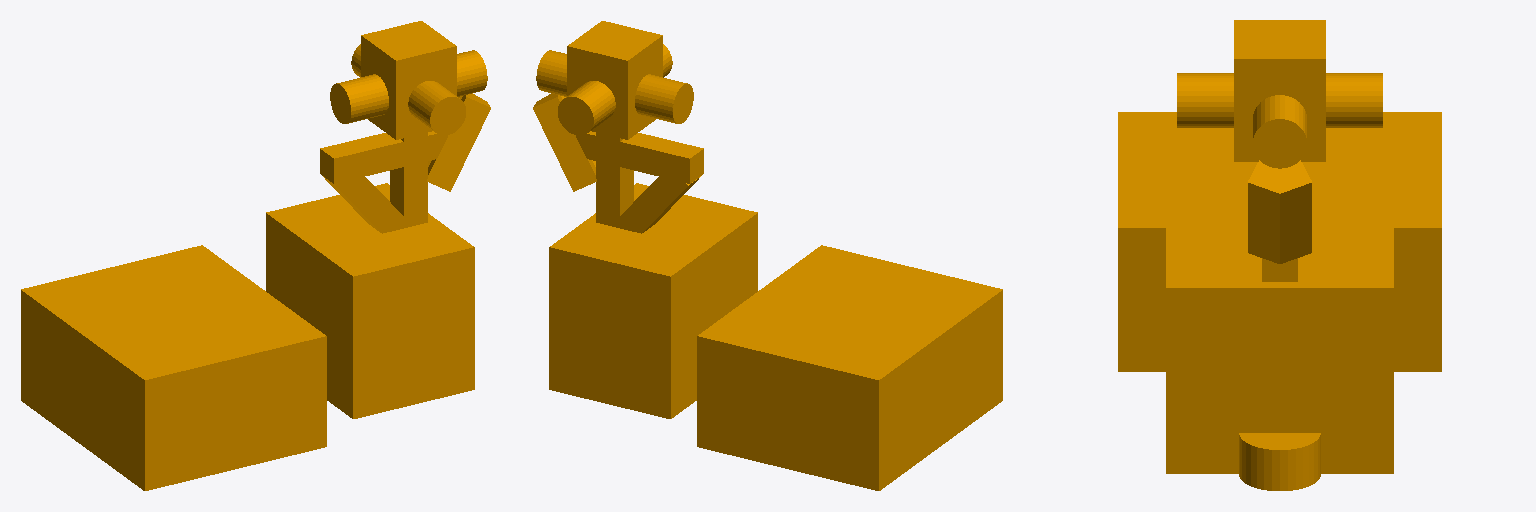
URDF robot description (marble_husky_sensor_config_5):
<?xml version='1.0' encoding='utf-8'?>
<robot name='marble_husky_sensor_config_5'>
  <link name='base_link'>
    <inertial>
      <origin xyz='-0.000543 -0.084945 0.062329' rpy='0 -0 0'/>
      <mass value='46.064'/>
      <inertia ixx='0.615397' ixy='-0.0240585' ixz='-0.120749' iyy='1.75388' iyz='-0.0028322' izz='2.03641'/>
    </inertial>
    <collision name='base_link_collision'>
      <origin xyz='0 0 0.12' rpy='0 -0 0'/>
      <geometry>
        <box size='0.9874 0.5709 0.05'/>
      </geometry>
    </collision>
    <collision name='base_link_collision_bottom'>
      <origin xyz='0 0 0.046' rpy='0 -0 0'/>
      <geometry>
        <box size='0.8 0.5709 0.095'/>
      </geometry>
    </collision>
    <collision name='base_link_collision_1'>
      <origin xyz='0 0 0.185625' rpy='0 -0 0'/>
      <geometry>
        <box size='0.78992 0.5709 0.12375'/>
      </geometry>
    </collision>
    <collision name='base_link_fixed_joint_lump__camera/camera_link_collision_2'>
      <origin xyz='0.478 0 0.285' rpy='0 -0 0'/>
      <geometry>
        <box size='0.0078 0.13 0.0192'/>
      </geometry>
    </collision>
    <collision name='base_link_fixed_joint_lump__camera/camera_link_collision_3'>
      <origin xyz='0.473 0 0.26' rpy='0 0.5236 0'/>
      <geometry>
        <box size='0.0078 0.13 0.0192'/>
      </geometry>
    </collision>
    <collision name='base_link_fixed_joint_lump__velodyne_base_link_collision_6'>
      <origin xyz='0.424 0 0.327' rpy='0 -0 0'/>
      <geometry>
        <cylinder radius='0.0516' length='0.0717'/>
      </geometry>
    </collision>
    <collision name='base_link_fixed_joint_lump__sensor_tower_8'>
      <origin xyz='0.374 0 0.215' rpy='0 -0 0'/>
      <geometry>
        <box size='0.2 0.25 0.225'/>
      </geometry>
    </collision>
    <collision name='base_link_fixed_joint_lump__computer_block_9'>
      <origin xyz='0.05 0 0.185' rpy='0 -0 0'/>
      <geometry>
        <box size='0.3 0.355 0.175'/>
      </geometry>
    </collision>
    <collision name='tof_left_camera_mount_collision'>
      <origin xyz='0.5105 0.01 0.439' rpy='-1.34452 0.47634 0.465309'/>
      <geometry>
        <box size='0.04 0.135 0.0385'/>
      </geometry>
    </collision>
    <collision name='tof_right_camera_mount_collision'>
      <origin xyz='0.5105 -0.01 0.439' rpy='-1.79707 0.47634 -0.465309'/>
      <geometry>
        <box size='0.04 0.135 0.0385'/>
      </geometry>
    </collision>
    <collision name='sensor_head_collision'>
      <origin xyz='0.4379 0 0.54818' rpy='0 -0 0'/>
      <geometry>
        <box size='0.1 0.1 0.125'/>
      </geometry>
    </collision>
    <collision name='sensor_tower_support_collision'>
      <origin xyz='0.4379 0 0.39918' rpy='0 -0 0'/>
      <geometry>
        <box size='0.04 0.04 0.25'/>
      </geometry>
    </collision>
    <collision name='vertical_lidar_support_collision'>
      <origin xyz='0.4029 0 0.44418' rpy='0 -0 0'/>
      <geometry>
        <box size='0.2 0.04 0.04'/>
      </geometry>
    </collision>
    <collision name='diagonal_lidar_support_collision'>
      <origin xyz='0.3779 0 0.36418' rpy='0 0.8854 0'/>
      <geometry>
        <box size='0.18 0.04 0.04'/>
      </geometry>
    </collision>
    <collision name='camera_front_collision'>
      <origin xyz='0.5179 0 0.53718' rpy='3.14159 1.57069 3.14159'/>
      <geometry>
        <cylinder radius='0.03' length='0.065'/>
      </geometry>
    </collision>
    <collision name='camera_back_collision'>
      <origin xyz='0.3579 0 0.53718' rpy='3.14159 1.57069 3.14159'/>
      <geometry>
        <cylinder radius='0.03' length='0.065'/>
      </geometry>
    </collision>
    <collision name='camera_left_collision'>
      <origin xyz='0.4379 0.08 0.53718' rpy='1.5709 -0 0'/>
      <geometry>
        <cylinder radius='0.03' length='0.065'/>
      </geometry>
    </collision>
    <collision name='camera_right_collision'>
      <origin xyz='0.4379 -0.08 0.53718' rpy='1.5709 -0 0'/>
      <geometry>
        <cylinder radius='0.03' length='0.065'/>
      </geometry>
    </collision>
    <visual name='base_link_visual'>
      <origin xyz='0 0 0' rpy='0 -0 0'/>
      <geometry>
        <mesh filename='meshes/base_link.dae' scale='1 1 1'/>
      </geometry>
    </visual>
    <visual name='base_link_fixed_joint_lump__front_bumper_link_visual_3'>
      <origin xyz='0.48 0 0.091' rpy='0 -0 0'/>
      <geometry>
        <mesh filename='meshes/bumper.dae' scale='1 1 1'/>
      </geometry>
    </visual>
    <visual name='base_link_fixed_joint_lump__rear_bumper_link_visual_4'>
      <origin xyz='-0.48 0 0.091' rpy='0 -0 3.14159'/>
      <geometry>
        <mesh filename='meshes/bumper.dae' scale='1 1 1'/>
      </geometry>
    </visual>
    <visual name='base_link_fixed_joint_lump__top_chassis_link_visual_5'>
      <origin xyz='0 0 0' rpy='0 -0 0'/>
      <geometry>
        <mesh filename='meshes/top_chassis.dae' scale='1 1 1'/>
      </geometry>
    </visual>
    <visual name='base_link_fixed_joint_lump__user_rail_link_visual_13'>
      <origin xyz='0.272 0 0.245' rpy='0 -0 0'/>
      <geometry>
        <mesh filename='meshes/user_rail.dae' scale='1 1 1'/>
      </geometry>
    </visual>
    <visual name='base_link_fixed_joint_lump__planar_lidar_link_visual_14'>
      <origin xyz='0.474 0 0.127' rpy='0 -0 0'/>
      <geometry>
        <cylinder radius='0.045' length='0.05'/>
      </geometry>
    </visual>
    <visual name='base_link_fixed_joint_lump__sensor_tower_16'>
      <origin xyz='0.374 0 0.215' rpy='0 -0 0'/>
      <geometry>
        <box size='0.2 0.25 0.225'/>
      </geometry>
    </visual>
    <visual name='base_link_fixed_joint_lump__computer_block_17'>
      <origin xyz='0.05 0 0.185' rpy='0 -0 0'/>
      <geometry>
        <box size='0.3 0.355 0.175'/>
      </geometry>
    </visual>
    <visual name='tof_left_camera_visual'>
      <origin xyz='0.527 0.015 0.429' rpy='-1.34452 0.47634 0.465309'/>
      <geometry>
        <mesh filename='meshes/realsense.dae' scale='1 1 1'/>
      </geometry>
    </visual>
    <visual name='tof_left_camera_mount_visual'>
      <origin xyz='0.5105 0.01 0.439' rpy='-1.34452 0.47634 0.465309'/>
      <geometry>
        <box size='0.04 0.135 0.0385'/>
      </geometry>
    </visual>
    <visual name='tof_right_camera_visual'>
      <origin xyz='0.527 -0.015 0.429' rpy='-1.79707 0.47634 -0.465309'/>
      <geometry>
        <mesh filename='meshes/realsense.dae' scale='1 1 1'/>
      </geometry>
    </visual>
    <visual name='tof_right_camera_mount_visual'>
      <origin xyz='0.5105 -0.01 0.439' rpy='-1.79707 0.47634 -0.465309'/>
      <geometry>
        <box size='0.04 0.135 0.0385'/>
      </geometry>
    </visual>
    <visual name='sensor_head_visual'>
      <origin xyz='0.4379 0 0.54818' rpy='0 -0 0'/>
      <geometry>
        <box size='0.1 0.1 0.125'/>
      </geometry>
    </visual>
    <visual name='sensor_tower_support_visual'>
      <origin xyz='0.4379 0 0.39918' rpy='0 -0 0'/>
      <geometry>
        <box size='0.04 0.04 0.25'/>
      </geometry>
    </visual>
    <visual name='vertical_lidar_support_visual'>
      <origin xyz='0.4029 0 0.44418' rpy='0 -0 0'/>
      <geometry>
        <box size='0.2 0.04 0.04'/>
      </geometry>
    </visual>
    <visual name='diagonal_lidar_support_visual'>
      <origin xyz='0.3779 0 0.36418' rpy='0 0.8854 0'/>
      <geometry>
        <box size='0.18 0.04 0.04'/>
      </geometry>
    </visual>
    <visual name='base_link_fixed_joint_lump__velodyne_base_link_visual_10'>
      <origin xyz='0.4379 0 0.61018' rpy='0 -0 0'/>
      <geometry>
        <mesh filename='meshes/VLP16_base_1.dae' scale='1 1 1'/>
      </geometry>
    </visual>
    <visual name='base_link_fixed_joint_lump__velodyne_base_link_visual_11'>
      <origin xyz='0.4379 0 0.61018' rpy='0 -0 0'/>
      <geometry>
        <mesh filename='meshes/VLP16_base_2.dae' scale='1 1 1'/>
      </geometry>
    </visual>
    <visual name='base_link_fixed_joint_lump__velodyne_visual_12'>
      <origin xyz='0.4379 0 0.61018' rpy='0 -0 0'/>
      <geometry>
        <mesh filename='meshes/VLP16_scan.dae' scale='1 1 1'/>
      </geometry>
    </visual>
    <visual name='base_link_fixed_joint_lump__velodyne_base_link_visual_13'>
      <origin xyz='0.31037 0 0.44818' rpy='3.14159 -1.57079 3.14159'/>
      <geometry>
        <mesh filename='meshes/VLP16_base_1.dae' scale='1 1 1'/>
      </geometry>
    </visual>
    <visual name='base_link_fixed_joint_lump__velodyne_base_link_visual_14'>
      <origin xyz='0.31037 0 0.44818' rpy='3.14159 -1.57079 3.14159'/>
      <geometry>
        <mesh filename='meshes/VLP16_base_2.dae' scale='1 1 1'/>
      </geometry>
    </visual>
    <visual name='base_link_fixed_joint_lump__velodyne_visual_15'>
      <origin xyz='0.31037 0 0.44818' rpy='3.14159 -1.57079 3.14159'/>
      <geometry>
        <mesh filename='meshes/VLP16_scan.dae' scale='1 1 1'/>
      </geometry>
    </visual>
    <visual name='camera_front_visual'>
      <origin xyz='0.5179 0 0.53718' rpy='3.14159 1.57069 3.14159'/>
      <geometry>
        <cylinder radius='0.03' length='0.065'/>
      </geometry>
    </visual>
    <visual name='camera_back_visual'>
      <origin xyz='0.3579 0 0.53718' rpy='3.14159 1.57069 3.14159'/>
      <geometry>
        <cylinder radius='0.03' length='0.065'/>
      </geometry>
    </visual>
    <visual name='camera_left_visual'>
      <origin xyz='0.4379 0.08 0.53718' rpy='1.5709 -0 0'/>
      <geometry>
        <cylinder radius='0.03' length='0.065'/>
      </geometry>
    </visual>
    <visual name='camera_right_visual'>
      <origin xyz='0.4379 -0.08 0.53718' rpy='1.5709 -0 0'/>
      <geometry>
        <cylinder radius='0.03' length='0.065'/>
      </geometry>
    </visual>
  </link>
  <sensor name='planar_laser' update_rate='20'>
    <parent link='base_link'/>
    <origin xyz='0.485 0 0.166' rpy='0 -0 0'/>
  </sensor>
  <sensor name='tof_left' update_rate='10'>
    <parent link='base_link'/>
    <origin xyz='0.527 0.015 0.429' rpy='-1.34452 0.47634 0.465309'/>
    <camera>
      <image width='224' height='171' format='R8G8B8' hfov='1.0821' near='0.1' far='4' />
    </camera>
  </sensor>
  <sensor name='tof_right' update_rate='10'>
    <parent link='base_link'/>
    <origin xyz='0.527 -0.015 0.429' rpy='-1.79707 0.47634 -0.465309'/>
    <camera>
      <image width='224' height='171' format='R8G8B8' hfov='1.0821' near='0.1' far='4' />
    </camera>
  </sensor>
  <sensor name='imu_sensor' update_rate='200'>
    <parent link='base_link'/>
    <origin xyz='0 0 0' rpy='0 -0 0'/>
  </sensor>
  <sensor name='front_laser' update_rate='10'>
    <parent link='base_link'/>
    <origin xyz='0.4379 0 0.67018' rpy='0 -0 0'/>
  </sensor>
  <sensor name='vert_laser' update_rate='10'>
    <parent link='base_link'/>
    <origin xyz='0.31037 0 0.44818' rpy='3.14159 -1.57079 3.14159'/>
  </sensor>
  <sensor name='camera_front' update_rate='10'>
    <parent link='base_link'/>
    <origin xyz='0.5579 0 0.53718' rpy='0 -0 0'/>
    <camera>
      <image width='808' height='608' format='R8G8B8' hfov='1.39626' near='0.01' far='300' />
    </camera>
  </sensor>
  <sensor name='camera_back' update_rate='10'>
    <parent link='base_link'/>
    <origin xyz='0.3179 0 0.53718' rpy='0 -0 3.14159'/>
    <camera>
      <image width='808' height='608' format='R8G8B8' hfov='1.39626' near='0.01' far='300' />
    </camera>
  </sensor>
  <sensor name='camera_left' update_rate='10'>
    <parent link='base_link'/>
    <origin xyz='0.4379 0.12 0.53718' rpy='0 -0 1.5708'/>
    <camera>
      <image width='808' height='608' format='R8G8B8' hfov='1.39626' near='0.01' far='300' />
    </camera>
  </sensor>
  <sensor name='camera_right' update_rate='10'>
    <parent link='base_link'/>
    <origin xyz='0.4379 -0.12 0.53718' rpy='0 0 -1.5708'/>
    <camera>
      <image width='808' height='608' format='R8G8B8' hfov='1.39626' near='0.01' far='300' />
    </camera>
  </sensor>
  <link name='front_left_wheel_link'>
    <inertial>
      <origin xyz='0 0 0' rpy='0 -0 0'/>
      <mass value='2.637'/>
      <inertia ixx='0.02467' ixy='0' ixz='0' iyy='0.04411' iyz='0' izz='0.02467'/>
    </inertial>
    <collision name='front_left_wheel_link_collision'>
      <origin xyz='0 0 0' rpy='1.5708 -0 0'/>
      <geometry>
        <cylinder radius='0.1651' length='0.1143'/>
      </geometry>
    </collision>
    <visual name='front_left_wheel_link_visual'>
      <origin xyz='0 0 0' rpy='0 -0 0'/>
      <geometry>
        <mesh filename='meshes/wheel.dae' scale='1 1 1'/>
      </geometry>
    </visual>
  </link>
  <link name='front_right_wheel_link'>
    <inertial>
      <origin xyz='0 0 0' rpy='0 -0 0'/>
      <mass value='2.637'/>
      <inertia ixx='0.02467' ixy='0' ixz='0' iyy='0.04411' iyz='0' izz='0.02467'/>
    </inertial>
    <collision name='front_right_wheel_link_collision'>
      <origin xyz='0 0 0' rpy='1.5708 -0 0'/>
      <geometry>
        <cylinder radius='0.1651' length='0.1143'/>
      </geometry>
    </collision>
    <visual name='front_right_wheel_link_visual'>
      <origin xyz='0 0 0' rpy='0 -0 0'/>
      <geometry>
        <mesh filename='meshes/wheel.dae' scale='1 1 1'/>
      </geometry>
    </visual>
  </link>
  <link name='rear_left_wheel_link'>
    <inertial>
      <origin xyz='0 0 0' rpy='0 -0 0'/>
      <mass value='2.637'/>
      <inertia ixx='0.02467' ixy='0' ixz='0' iyy='0.04411' iyz='0' izz='0.02467'/>
    </inertial>
    <collision name='rear_left_wheel_link_collision'>
      <origin xyz='0 0 0' rpy='1.5708 -0 0'/>
      <geometry>
        <cylinder radius='0.1651' length='0.1143'/>
      </geometry>
    </collision>
    <visual name='rear_left_wheel_link_visual'>
      <origin xyz='0 0 0' rpy='0 -0 0'/>
      <geometry>
        <mesh filename='meshes/wheel.dae' scale='1 1 1'/>
      </geometry>
    </visual>
  </link>
  <link name='rear_right_wheel_link'>
    <inertial>
      <origin xyz='0 0 0' rpy='0 -0 0'/>
      <mass value='2.637'/>
      <inertia ixx='0.02467' ixy='0' ixz='0' iyy='0.04411' iyz='0' izz='0.02467'/>
    </inertial>
    <collision name='rear_right_wheel_link_collision'>
      <origin xyz='0 0 0' rpy='1.5708 -0 0'/>
      <geometry>
        <cylinder radius='0.1651' length='0.1143'/>
      </geometry>
    </collision>
    <visual name='rear_right_wheel_link_visual'>
      <origin xyz='0 0 0' rpy='0 -0 0'/>
      <geometry>
        <mesh filename='meshes/wheel.dae' scale='1 1 1'/>
      </geometry>
    </visual>
  </link>
  <joint name='front_left_wheel_joint' type='revolute'>
    <origin xyz='0.256 0.2854 0.03282' rpy='0 -0 0'/>
    <parent link='base_link'/>
    <child link='front_left_wheel_link'/>
    <dynamics damping='0' friction='0' />
    <axis xyz='0 1 0'/>
    <limit lower='-1e+16' upper='1e+16' effort='-1' velocity='-1'/>
  </joint>
  <joint name='front_right_wheel_joint' type='revolute'>
    <origin xyz='0.256 -0.2854 0.03282' rpy='0 -0 0'/>
    <parent link='base_link'/>
    <child link='front_right_wheel_link'/>
    <dynamics damping='0' friction='0' />
    <axis xyz='0 1 0'/>
    <limit lower='-1e+16' upper='1e+16' effort='-1' velocity='-1'/>
  </joint>
  <joint name='rear_left_wheel_joint' type='revolute'>
    <origin xyz='-0.256 0.2854 0.03282' rpy='0 -0 0'/>
    <parent link='base_link'/>
    <child link='rear_left_wheel_link'/>
    <dynamics damping='0' friction='0' />
    <axis xyz='0 1 0'/>
    <limit lower='-1e+16' upper='1e+16' effort='-1' velocity='-1'/>
  </joint>
  <joint name='rear_right_wheel_joint' type='revolute'>
    <origin xyz='-0.256 -0.2854 0.03282' rpy='0 -0 0'/>
    <parent link='base_link'/>
    <child link='rear_right_wheel_link'/>
    <dynamics damping='0' friction='0' />
    <axis xyz='0 1 0'/>
    <limit lower='-1e+16' upper='1e+16' effort='-1' velocity='-1'/>
  </joint>
</robot>

--- Facts derived from the render (not from the file) ---
3 views of the same robot in one strip: view 1: azimuth 30°, elevation 25°; view 2: azimuth 150°, elevation 25°; view 3: azimuth 270°, elevation 25° (orthographic).
Model marble_husky_sensor_config_5 with 5 links and 4 joints (4 revolute), rooted at base_link, posed all joints at 0.
Links seen in each view (by area): view 1: base_link; view 2: base_link; view 3: base_link.
Boxes of the visible links, <box> form: base_link: <box>21,21,490,490</box>; base_link: <box>533,21,1002,490</box>; base_link: <box>1118,20,1441,490</box>.
Size in the robot's own frame: 0.6668 by 0.355 by 0.5132 metres.
Meshes: 9 distinct files referenced, 0 mesh visuals loaded (none loaded); not drawn: 17 (reference not matched to a file when rendering).